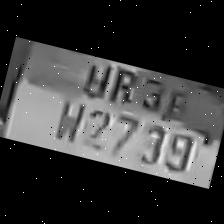2: (78, 100, 114, 151)
3: (131, 115, 169, 167), (132, 68, 170, 114)
7: (102, 104, 142, 160)
9: (159, 124, 199, 174)
R: (104, 60, 142, 106)
W: (47, 91, 87, 146)
